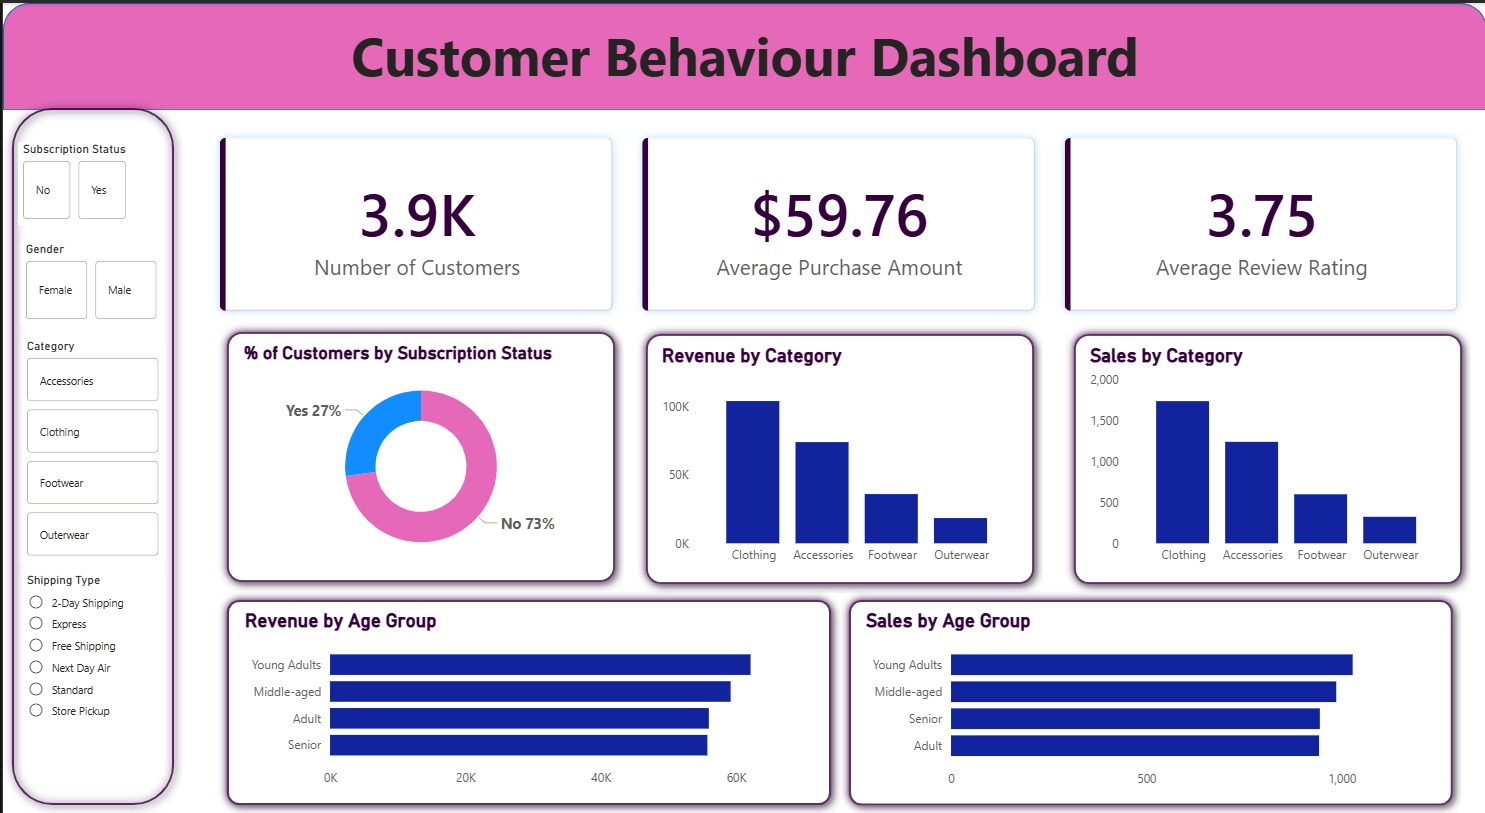

The page's visual inventory and layout, read from the dashboard file:
{"tool":"powerbi","page":{"name":"Page 1","canvas":[1500,820],"ordinal":0},"visuals":[{"type":"cardVisual","fields":{"Data":["public customer.Number of Customers","public customer.Average Purchase Amount","public customer.Average Review Rating"]},"box":[191,108.2,1309,231.5],"z":0},{"type":"shape","box":[0,0,1500,108.3],"z":1000},{"type":"textbox","box":[0,11.4,1500,85.5],"z":2000},{"type":"shape","box":[217.3,323.5,410.4,270.9],"z":4000},{"type":"shape","box":[0,97,181.9,722.7],"z":7000},{"type":"advancedSlicerVisual","title":"Subscription Status","fields":{"Values":["public customer.subscription_status"]},"box":[15.2,140.5,115.2,83.9],"z":8000},{"type":"advancedSlicerVisual","title":"Gender","fields":{"Values":["public customer.gender"]},"box":[18.2,241.6,143.5,83.9],"z":9000},{"type":"shape","box":[640.8,325.5,410.4,270.9],"z":10000},{"type":"shape","box":[1073.5,325.5,410.4,270.9],"z":11000},{"type":"advancedSlicerVisual","title":"Category","fields":{"Values":["public customer.category"]},"box":[19.2,339.6,143.5,227.4],"z":12000},{"type":"listSlicer","title":"Shipping Type","fields":{"Values":["public customer.shipping_type"]},"box":[19.2,576.1,143.5,205.2],"z":13000},{"type":"shape","box":[217.3,594.3,628.7,225.4],"z":14000},{"type":"clusteredColumnChart","title":"Sales by Category","fields":{"Category":["public customer.category"],"Y":["CountNonNull(public customer.customer_id)"]},"box":[1093.7,344.7,369.9,231.5],"z":14125},{"type":"clusteredColumnChart","title":"Revenue by Category","fields":{"Category":["public customer.category"],"Y":["Sum(public customer.purchase_amount)"]},"box":[661.1,344.7,368.9,231.5],"z":14250},{"type":"donutChart","title":"% of Customers by Subscription Status","fields":{"Category":["public customer.subscription_status"],"Y":["CountNonNull(public customer.customer_id)"]},"box":[238.5,342.7,367.9,231.5],"z":14500},{"type":"clusteredBarChart","title":"Revenue by Age Group","fields":{"Y":["Sum(public customer.purchase_amount)"],"Category":["public customer.age_group"]},"box":[239.4,612.4,584.8,188.8],"z":15000},{"type":"shape","box":[845.8,594.2,628.4,225.7],"z":15001},{"type":"clusteredBarChart","title":"Sales by Age Group","fields":{"Y":["CountNonNull(public customer.customer_id)"],"Category":["public customer.age_group"]},"box":[867.5,612.8,584.9,189.4],"z":15002}]}

Visuals, with their boxes in screenshot pixels (x1, y1, x2, y2), scaled from the page's 1500x820 canvas onto the 1485x813 screenshot:
cardVisual - public customer.Number of Customers x public customer.Average Purchase Amount: {"x1": 189, "y1": 107, "x2": 1484, "y2": 337}
shape: {"x1": 0, "y1": 0, "x2": 1484, "y2": 107}
textbox: {"x1": 0, "y1": 11, "x2": 1484, "y2": 96}
shape: {"x1": 215, "y1": 321, "x2": 621, "y2": 589}
shape: {"x1": 0, "y1": 96, "x2": 180, "y2": 812}
"Subscription Status" advancedSlicerVisual: {"x1": 15, "y1": 139, "x2": 129, "y2": 222}
"Gender" advancedSlicerVisual: {"x1": 18, "y1": 240, "x2": 160, "y2": 323}
shape: {"x1": 634, "y1": 323, "x2": 1041, "y2": 591}
shape: {"x1": 1063, "y1": 323, "x2": 1469, "y2": 591}
"Category" advancedSlicerVisual: {"x1": 19, "y1": 337, "x2": 161, "y2": 562}
"Shipping Type" listSlicer: {"x1": 19, "y1": 571, "x2": 161, "y2": 775}
shape: {"x1": 215, "y1": 589, "x2": 838, "y2": 812}
"Sales by Category" clusteredColumnChart: {"x1": 1083, "y1": 342, "x2": 1449, "y2": 571}
"Revenue by Category" clusteredColumnChart: {"x1": 654, "y1": 342, "x2": 1020, "y2": 571}
"% of Customers by Subscription Status" donutChart: {"x1": 236, "y1": 340, "x2": 600, "y2": 569}
"Revenue by Age Group" clusteredBarChart: {"x1": 237, "y1": 607, "x2": 816, "y2": 794}
shape: {"x1": 837, "y1": 589, "x2": 1459, "y2": 812}
"Sales by Age Group" clusteredBarChart: {"x1": 859, "y1": 608, "x2": 1438, "y2": 795}
